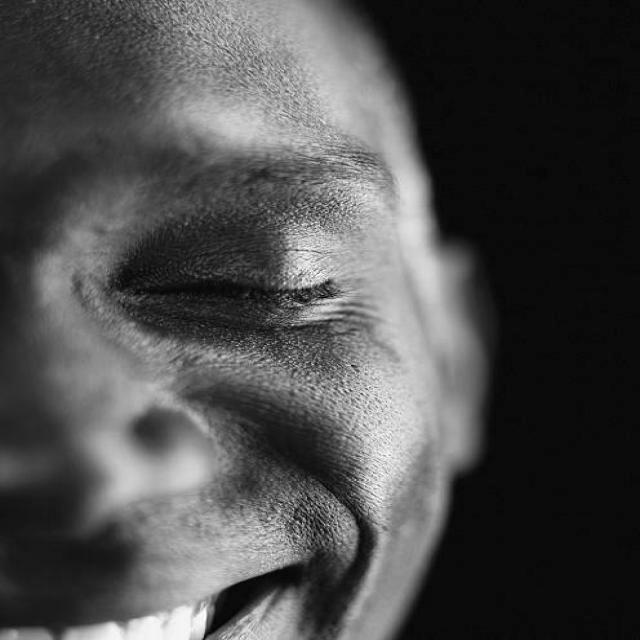real: (77, 134, 419, 392)
